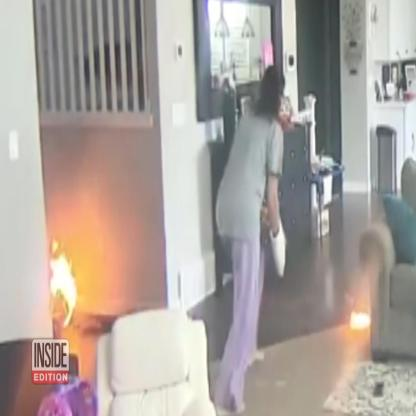fire: (50, 238, 77, 327), (350, 311, 372, 330)
